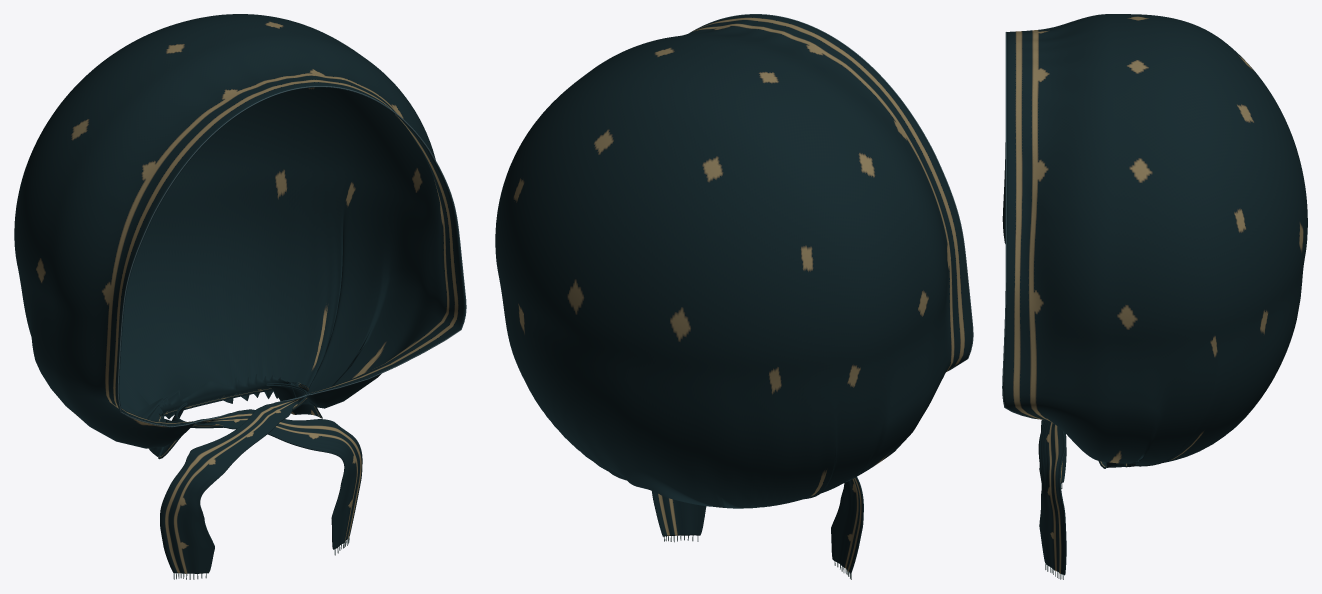
The model's file is Masculine-buzz-shirtless-pashmina250-headgear.glb.
3 renders of one model, left to right at view 1: azimuth 30°, elevation 25°; view 2: azimuth 150°, elevation 25°; view 3: azimuth 270°, elevation 25°, orthographic. The views are drawn at different scales.
Visible parts, largest first — view 1: 226 headgear / Headwear / continuous woven pashmina239, 226 headgear / Headwear / face edge239; view 2: 226 headgear / Headwear / continuous woven pashmina239, 226 headgear / Headwear / face edge239; view 3: 226 headgear / Headwear / continuous woven pashmina239, 226 headgear / Headwear / face edge239.
Part boxes in pixels (box(x1,y1,x2,y2)): 226 headgear / Headwear / continuous woven pashmina239: box(14, 14, 465, 573); 226 headgear / Headwear / face edge239: box(117, 86, 466, 427); 226 headgear / Headwear / continuous woven pashmina239: box(495, 14, 972, 573); 226 headgear / Headwear / face edge239: box(690, 14, 973, 371); 226 headgear / Headwear / continuous woven pashmina239: box(1003, 14, 1307, 575); 226 headgear / Headwear / face edge239: box(1002, 32, 1037, 419).
Size of the model in its own units: 1.07 by 1.37 by 0.7558.
3 materials, 1 textured.
